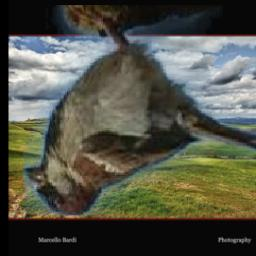Sparrow: (23, 6, 256, 216)
